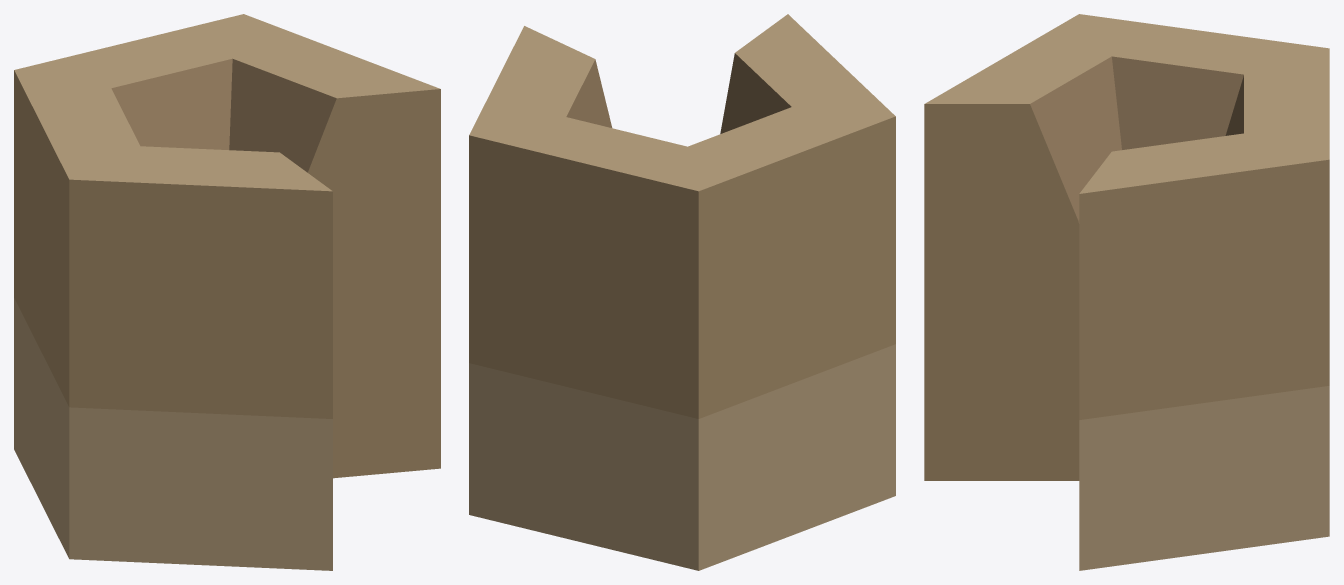
File: pentichnus-deep-dwelling-trace.glb
The picture shows the model from 3 angles, left to right: view 1: azimuth 30°, elevation 25°; view 2: azimuth 150°, elevation 25°; view 3: azimuth 270°, elevation 25°; orthographic projection.
Parts seen in each view (by area): view 1: Pentameral deep cavity sectional sediment; view 2: Pentameral deep cavity sectional sediment; view 3: Pentameral deep cavity sectional sediment.
Boxes of the visible parts, x1,y1,x2,y2 form: Pentameral deep cavity sectional sediment: [14, 14, 440, 570]; Pentameral deep cavity sectional sediment: [469, 14, 895, 570]; Pentameral deep cavity sectional sediment: [924, 14, 1329, 570].
Bounding box in the file's own units: 0.1331 × 0.13 × 0.1266.
